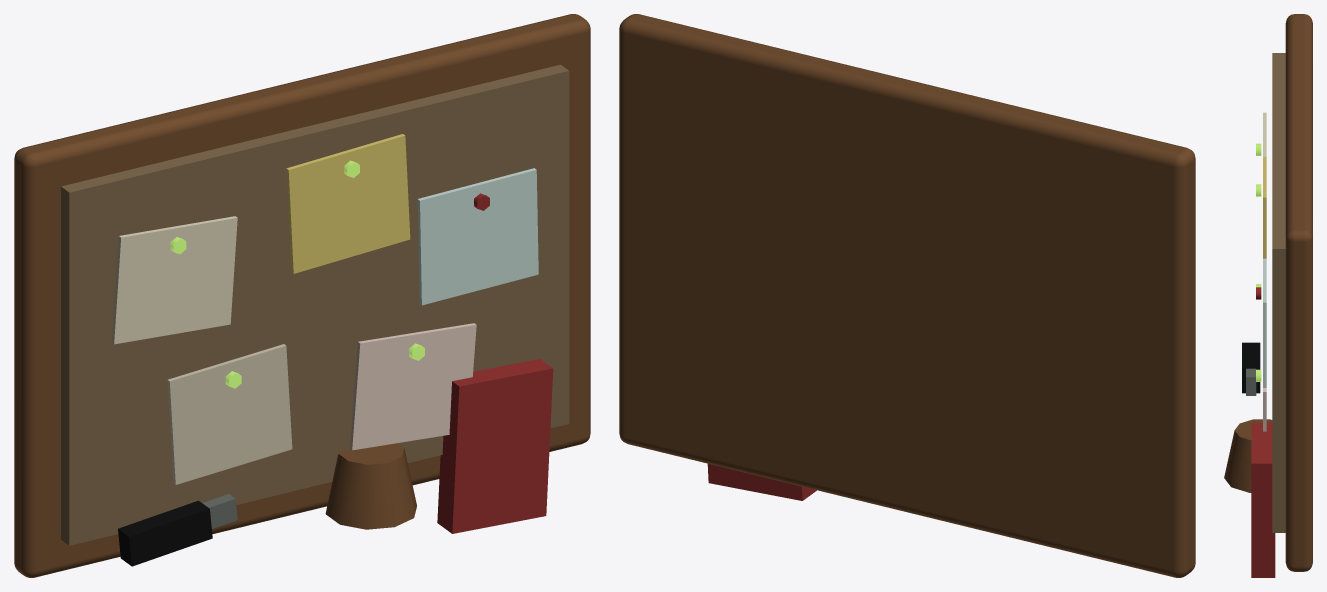
The model's file is ucb_errand_task_board_psx.glb.
3 views of the same model, side by side, from view 1: azimuth 30°, elevation 25°; view 2: azimuth 150°, elevation 25°; view 3: azimuth 270°, elevation 25° (orthographic). The views are drawn at different scales.
Visible parts, largest first — view 1: cork_board, wood_frame, library_book, task_note_2, task_note_4, task_note_1, task_note_3, task_note_5, registrar_stamp, usb_drive, usb_plug; view 2: wood_frame, library_book; view 3: wood_frame, cork_board, library_book, registrar_stamp, usb_drive, task_note_3, task_note_2, usb_plug, task_note_1, task_note_5.
Boxes of the visible parts, x1,y1,x2,y2 form: cork_board: (61, 64, 569, 545); wood_frame: (14, 14, 590, 577); library_book: (437, 359, 553, 533); task_note_2: (286, 134, 410, 273); task_note_4: (167, 344, 292, 484); task_note_1: (112, 216, 237, 344); task_note_3: (417, 168, 538, 305); task_note_5: (350, 323, 476, 450); registrar_stamp: (325, 443, 416, 529); usb_drive: (118, 500, 212, 566); usb_plug: (202, 494, 237, 528); wood_frame: (619, 14, 1195, 577); library_book: (707, 463, 816, 500); wood_frame: (1285, 14, 1312, 571); cork_board: (1272, 53, 1285, 532); library_book: (1251, 422, 1275, 577); registrar_stamp: (1224, 419, 1272, 492); usb_drive: (1242, 342, 1260, 393); task_note_3: (1263, 258, 1266, 387); task_note_2: (1263, 157, 1266, 258); usb_plug: (1246, 368, 1256, 395); task_note_1: (1263, 112, 1266, 156); task_note_5: (1263, 388, 1266, 431).
Bounding box in the file's own units: 3.5 × 2.72 × 0.59.
